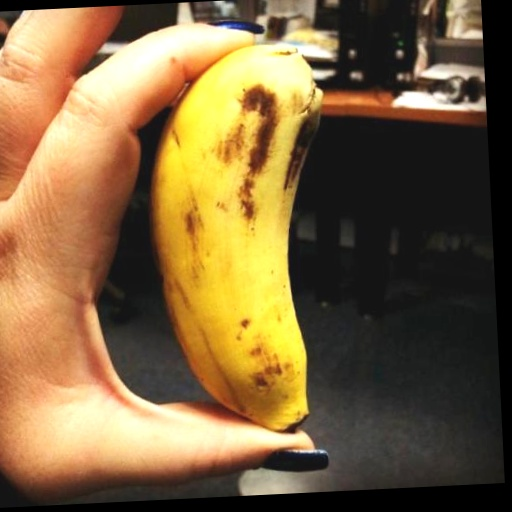fruit: (151, 45, 322, 430)
